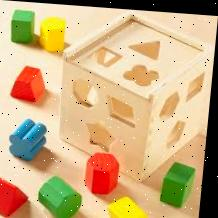cube: (59, 8, 214, 175)
